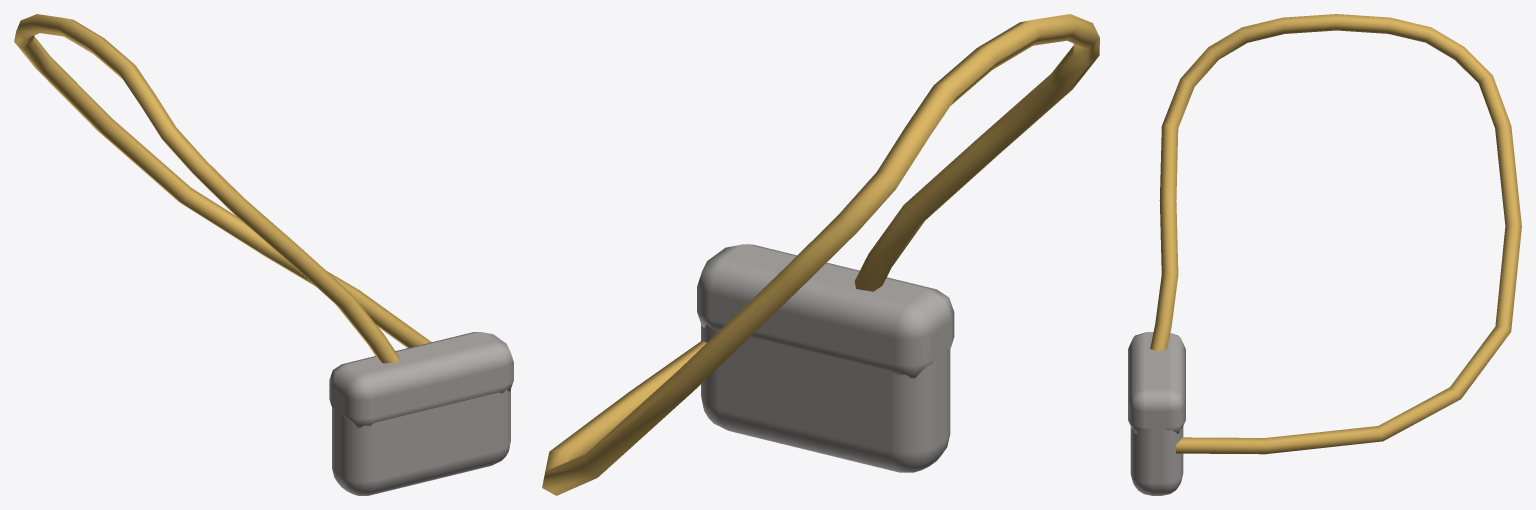
File: evening_bag.glb
3 views of the same model, side by side, from view 1: azimuth 30°, elevation 25°; view 2: azimuth 150°, elevation 25°; view 3: azimuth 270°, elevation 25° (orthographic). The views are drawn at different scales.
Visible parts, largest first — view 1: evening_bag_Body; view 2: evening_bag_Body; view 3: evening_bag_Body.
Boxes of the visible parts, <box> form: evening_bag_Body: <box>14,14,513,495</box>; evening_bag_Body: <box>542,14,1099,495</box>; evening_bag_Body: <box>1128,14,1521,495</box>.
Size of the model in its own units: 0.3581 by 0.4541 by 0.4496.
